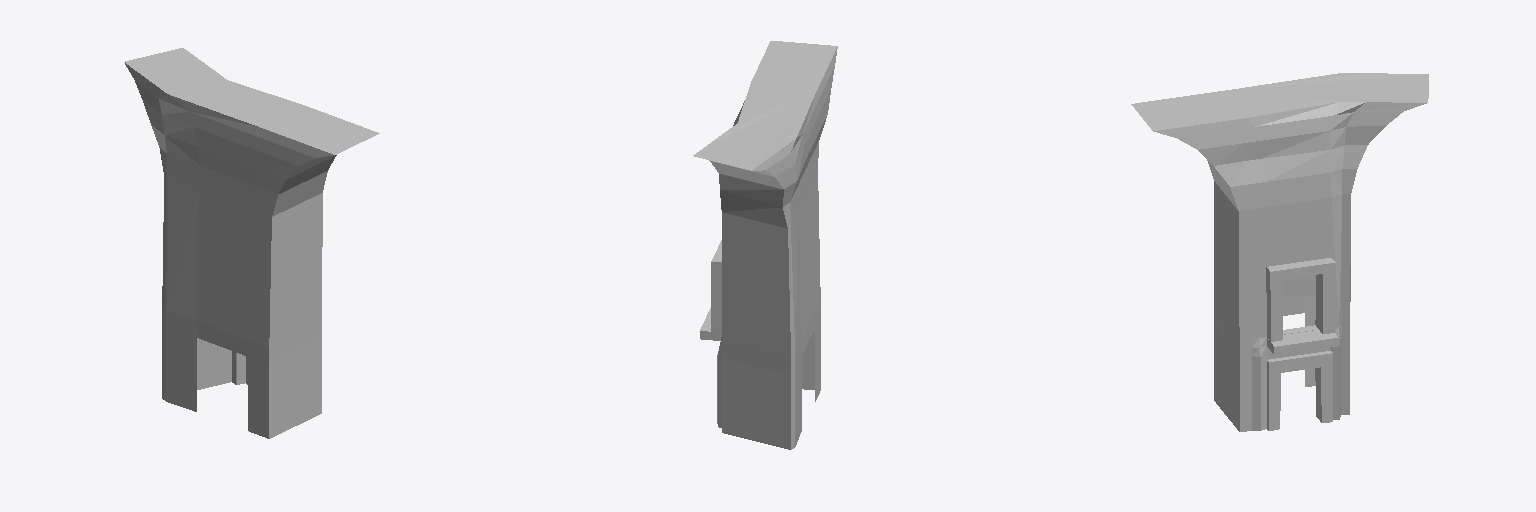
Rendered from Atrium_MainColumn_Right.obj.
The picture shows the model from 3 angles: view 1: azimuth 30°, elevation 25°; view 2: azimuth 150°, elevation 25°; view 3: azimuth 270°, elevation 25°; orthographic projection.
Visible parts, largest first — view 1: polySurface269 TriangleFixture; view 2: polySurface269 TriangleFixture; view 3: polySurface269 TriangleFixture.
Part boxes in pixels (left/top/right/bottom): polySurface269 TriangleFixture: left=124, top=48, right=379, bottom=438; polySurface269 TriangleFixture: left=693, top=41, right=837, bottom=449; polySurface269 TriangleFixture: left=1131, top=73, right=1428, bottom=431.
Bounding box in the file's own units: 1375 × 3336 × 2921.